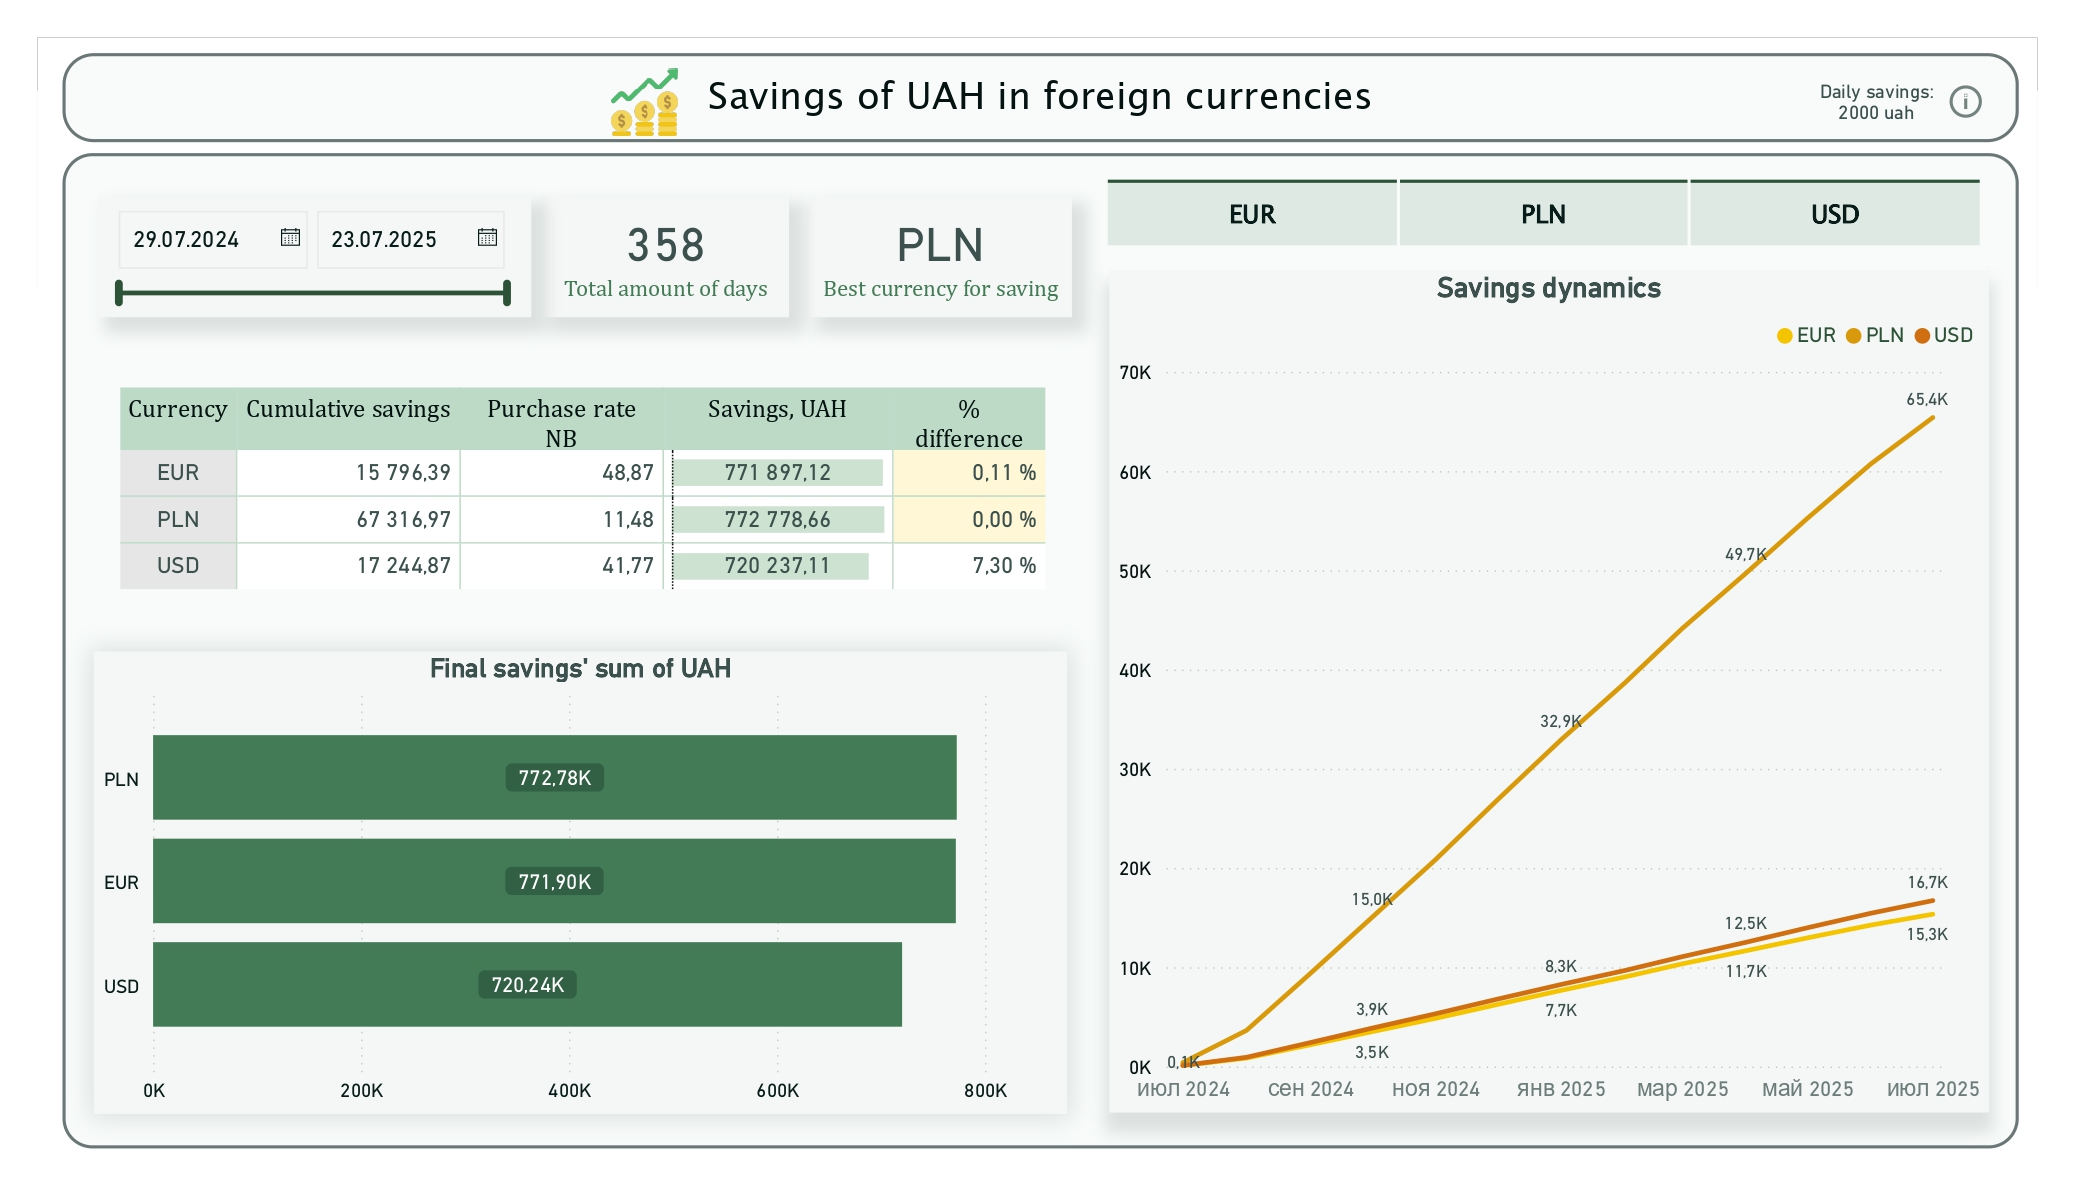

The dashboard page shown, as its layout file describes it:
{"tool":"powerbi","page":{"name":"Main","canvas":[1280,720],"ordinal":0},"visuals":[{"type":"actionButton","title":"Title","box":[16.1,10.4,1251.5,56.9],"z":0,"group":"g1"},{"type":"group","id":"g1","title":"Background","box":[16,10.4,1252.3,700.8],"z":0},{"type":"actionButton","title":"Main button","box":[16,74.2,1252.3,636.9],"z":1000,"group":"g1"},{"type":"slicer","fields":{"Values":["exchange_rates_eur_usd_pln.currency"]},"box":[658.6,84.3,608.6,55.7],"z":1000},{"type":"lineChart","title":"Динаміка накопичень","fields":{"Category":["exchange_rates_eur_usd_pln.date.Variation.Ієрархія дат.Рік","exchange_rates_eur_usd_pln.date.Variation.Ієрархія дат.Місяць"],"Series":["exchange_rates_eur_usd_pln.currency"],"Y":["Avg(exchange_rates_eur_usd_pln.cumulative_savings)"]},"box":[686,152.9,562.5,535.6],"z":2000},{"type":"tableEx","fields":{"Values":["last_day_savings.currency","last_day_savings.cumulative_savings","last_day_savings.purchaseRateNB","last_day_savings.uah_savings","last_day_savings.percent_diff"]},"box":[47.1,218.6,605.7,141.4],"z":3000},{"type":"card","fields":{"Values":["exchange_rates_eur_usd_pln.Distinct days"]},"box":[322.9,101.4,158.6,77.1],"z":4000},{"type":"slicer","fields":{"Values":["exchange_rates_eur_usd_pln.date"]},"box":[39,101,277,78],"z":5000},{"type":"card","fields":{"Values":["last_day_savings.Best currency metric"]},"box":[498.6,101.4,160,77.1],"z":6000},{"type":"clusteredBarChart","title":"Сума накопичень у грн","fields":{"Category":["last_day_savings.currency"],"Y":["Max(last_day_savings.uah_savings)"]},"box":[35.7,392.9,622.9,295.7],"z":7000},{"type":"image","box":[305.4,13.1,53.1,54.6],"z":8000},{"type":"actionButton","box":[1061.5,14.6,200,53.1],"z":9000}]}

Visuals, with their boxes in screenshot pixels (x1, y1, x2, y2):
"Title" actionButton: x1=63 y1=54 x2=2018 y2=143
"Background" group: x1=62 y1=54 x2=2019 y2=1149
"Main button" actionButton: x1=62 y1=153 x2=2019 y2=1149
slicer - exchange_rates_eur_usd_pln.currency: x1=1067 y1=169 x2=2018 y2=256
"Динаміка накопичень" lineChart: x1=1109 y1=276 x2=1988 y2=1113
tableEx - last_day_savings.currency x last_day_savings.cumulative_savings: x1=111 y1=379 x2=1058 y2=600
card - exchange_rates_eur_usd_pln.Distinct days: x1=542 y1=196 x2=790 y2=316
slicer - exchange_rates_eur_usd_pln.date: x1=98 y1=195 x2=531 y2=317
card - last_day_savings.Best currency metric: x1=817 y1=196 x2=1067 y2=316
"Сума накопичень у грн" clusteredBarChart: x1=93 y1=651 x2=1067 y2=1113
image: x1=515 y1=58 x2=598 y2=143
actionButton: x1=1696 y1=60 x2=2009 y2=143
